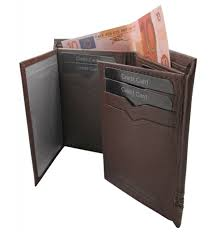monedero: (20, 5, 197, 228)
